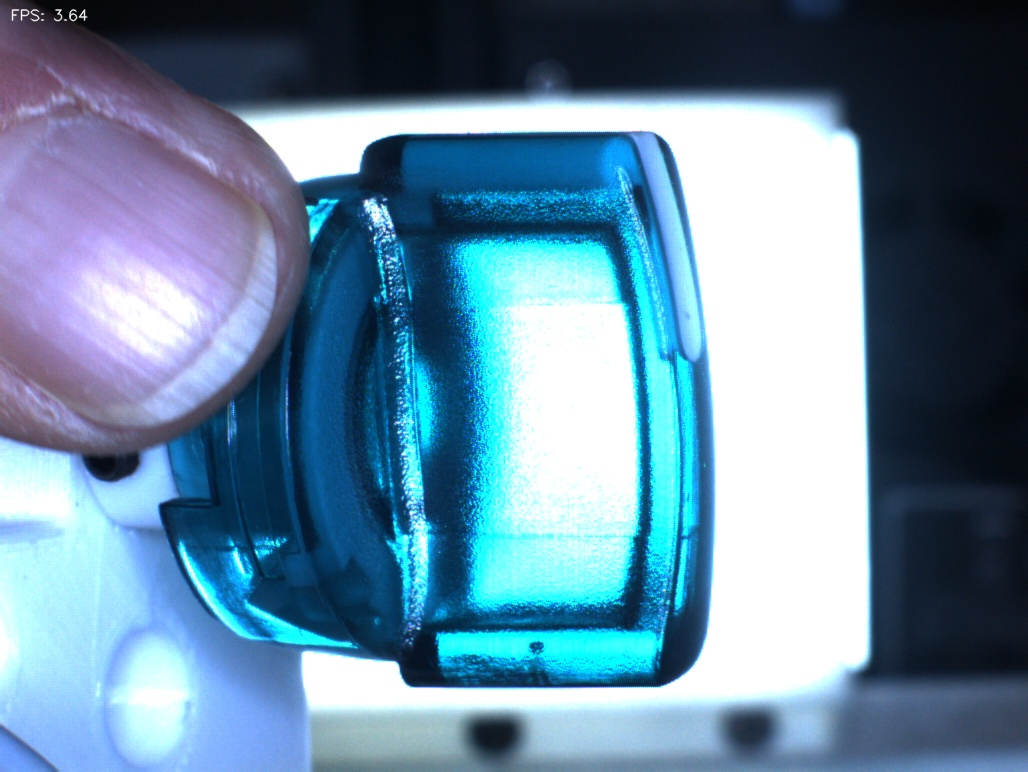Bulle: (495, 619, 586, 705)
